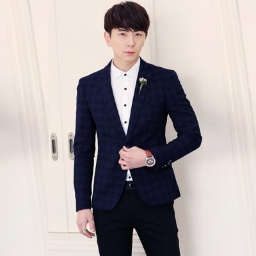face: (102, 1, 151, 66)
